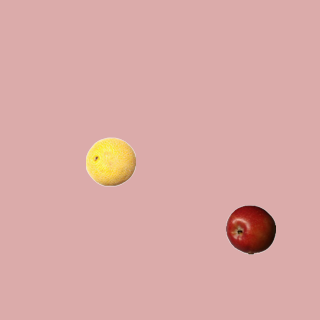Apple Braeburn: (225, 204, 275, 254)
Cantaloupe 1: (85, 136, 135, 186)
